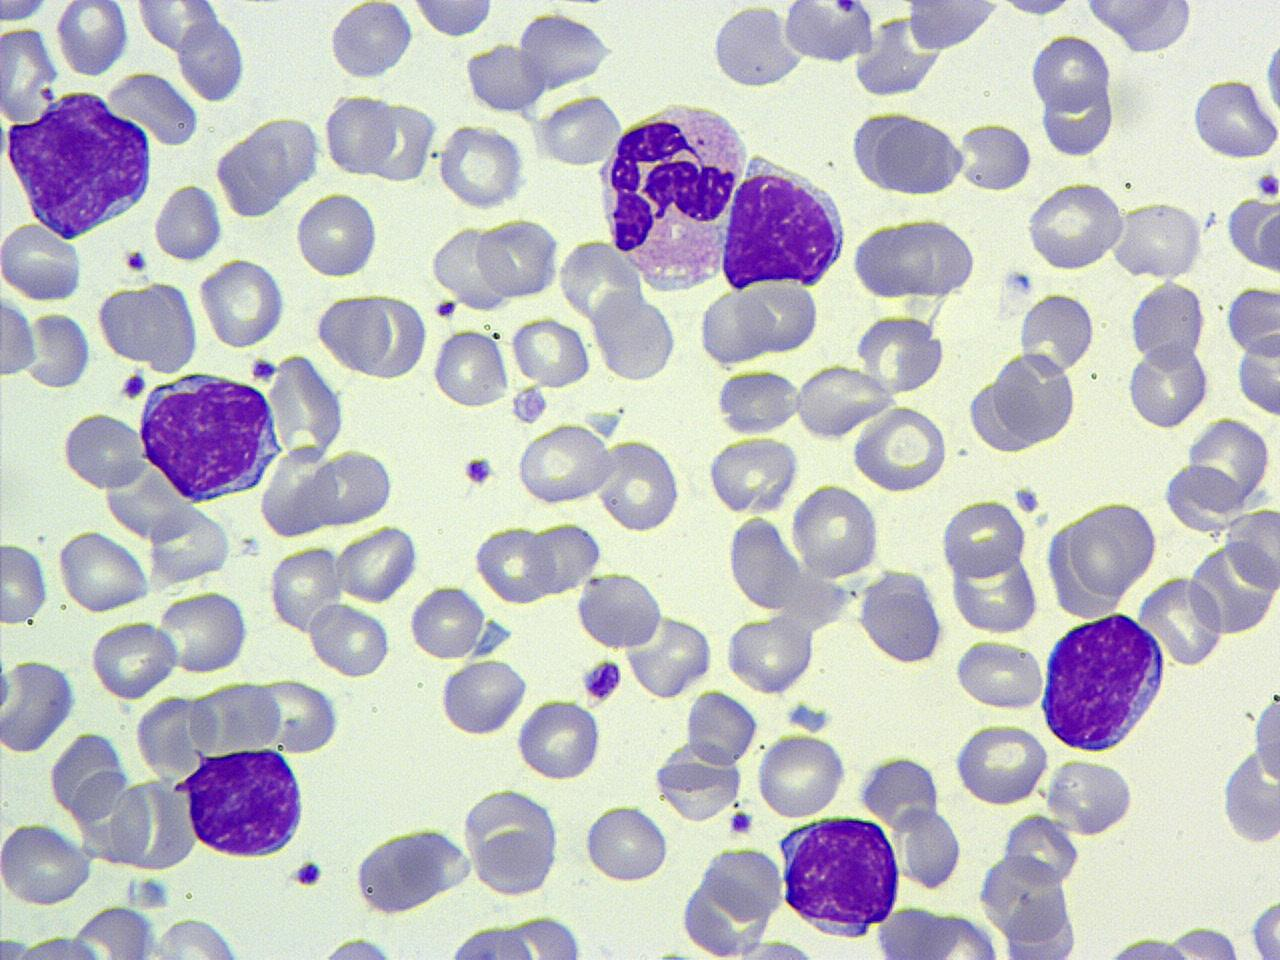Platelets: (310, 934, 405, 960), (580, 656, 626, 704), (128, 873, 173, 912), (786, 701, 830, 734), (462, 456, 496, 487), (1000, 266, 1035, 296), (292, 858, 324, 889), (1013, 484, 1043, 516), (119, 370, 148, 401), (249, 355, 280, 383), (1252, 170, 1280, 199), (728, 808, 754, 835), (124, 248, 149, 274), (433, 299, 460, 319), (1203, 209, 1219, 231)
RBC: (678, 840, 800, 956), (462, 785, 562, 897), (1024, 181, 1128, 274), (788, 482, 882, 580), (1187, 536, 1277, 638), (706, 6, 808, 94), (856, 568, 947, 666), (1184, 413, 1274, 513), (265, 352, 346, 462), (850, 405, 948, 494), (591, 288, 679, 386), (514, 422, 615, 507), (1068, 500, 1156, 598), (597, 436, 683, 534), (516, 10, 616, 96), (848, 218, 948, 303), (654, 734, 746, 825), (197, 257, 286, 350), (625, 610, 716, 701), (1141, 570, 1225, 668), (0, 820, 92, 909), (754, 731, 847, 819), (952, 721, 1048, 806), (158, 586, 250, 674), (56, 527, 150, 613), (950, 548, 1040, 636), (435, 121, 526, 209), (872, 114, 968, 197), (0, 654, 78, 756), (703, 433, 798, 515), (1124, 340, 1210, 430), (294, 190, 380, 280), (854, 312, 946, 395), (183, 677, 280, 756), (723, 612, 816, 694), (259, 442, 336, 542), (1113, 198, 1205, 279), (1127, 278, 1207, 372), (88, 617, 178, 700), (795, 362, 893, 439), (431, 221, 512, 314), (1044, 756, 1138, 836), (473, 215, 559, 301), (144, 501, 232, 586), (439, 655, 528, 739), (573, 570, 664, 651), (514, 697, 601, 782), (1190, 77, 1276, 161), (328, 0, 414, 84), (888, 216, 976, 298), (582, 802, 668, 884), (940, 497, 1028, 579), (60, 410, 149, 491), (314, 288, 394, 378), (310, 445, 396, 526), (335, 523, 420, 605), (952, 638, 1047, 712), (474, 522, 554, 608), (254, 676, 341, 754), (0, 221, 84, 302), (431, 324, 509, 410), (1017, 290, 1097, 374), (268, 542, 341, 633), (324, 90, 398, 178), (1028, 32, 1110, 112), (536, 92, 622, 167), (1038, 77, 1116, 159), (308, 600, 390, 678), (464, 40, 546, 117), (363, 98, 435, 185), (176, 15, 247, 104), (1003, 810, 1079, 890), (738, 277, 818, 354), (510, 315, 592, 390), (525, 519, 604, 597), (249, 114, 321, 199), (712, 368, 800, 436), (408, 582, 486, 658), (699, 287, 774, 366), (956, 119, 1035, 194), (782, 3, 874, 67), (23, 308, 92, 391), (54, 0, 129, 76), (685, 688, 756, 767), (153, 182, 222, 262), (1097, 924, 1253, 959), (0, 26, 57, 122), (900, 806, 964, 890), (1233, 309, 1279, 422), (1224, 280, 1278, 369), (1226, 188, 1280, 274), (147, 914, 247, 958), (909, 912, 1000, 960), (135, 0, 215, 54), (0, 541, 49, 626), (1250, 681, 1280, 795), (408, 0, 496, 38), (0, 290, 36, 378), (1249, 892, 1279, 958), (990, 0, 1085, 20), (0, 0, 53, 24)
WBC: (594, 95, 752, 298), (2, 87, 155, 242), (1038, 608, 1170, 755), (138, 368, 282, 501), (719, 154, 850, 295), (780, 813, 910, 941), (180, 746, 308, 862), (678, 842, 795, 958), (350, 826, 466, 918), (467, 791, 566, 895), (986, 346, 1084, 448), (864, 214, 980, 298), (708, 2, 808, 92), (1220, 702, 1280, 850), (858, 568, 946, 667), (0, 821, 92, 913), (424, 911, 597, 959), (1127, 276, 1209, 372), (1, 655, 80, 755), (574, 570, 668, 653), (441, 658, 532, 742), (328, 1, 416, 80), (1075, 0, 1199, 49), (1079, 927, 1257, 959), (904, 1, 1003, 53), (1248, 674, 1280, 832), (1260, 2, 1280, 150)
